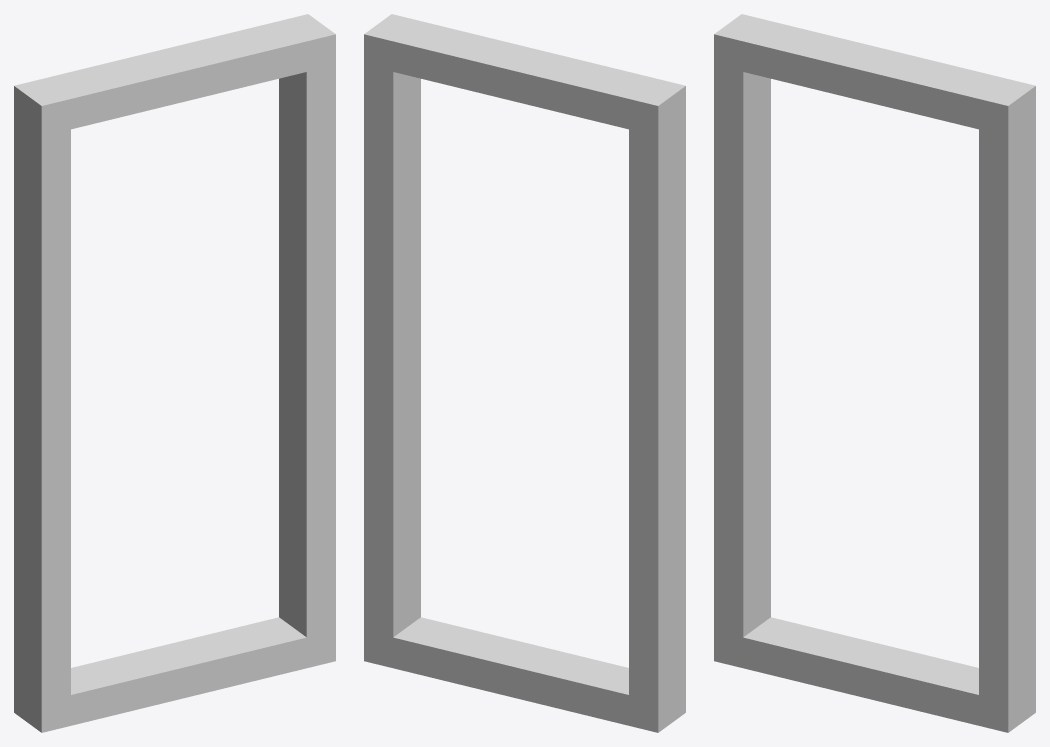
File: StreetDoorFrame_01.fbx
3 renders of one model, left to right at view 1: azimuth 30°, elevation 25°; view 2: azimuth 150°, elevation 25°; view 3: azimuth 330°, elevation 25°, orthographic.
Visible parts, largest first — view 1: StreetDoorFrame_01; view 2: StreetDoorFrame_01; view 3: StreetDoorFrame_01.
Part boxes in pixels (box(x1,y1,x2,y2)): StreetDoorFrame_01: box(14, 14, 335, 732); StreetDoorFrame_01: box(364, 14, 685, 732); StreetDoorFrame_01: box(714, 14, 1035, 732).
Size of the model in its own units: 111 by 226 by 18.12.
